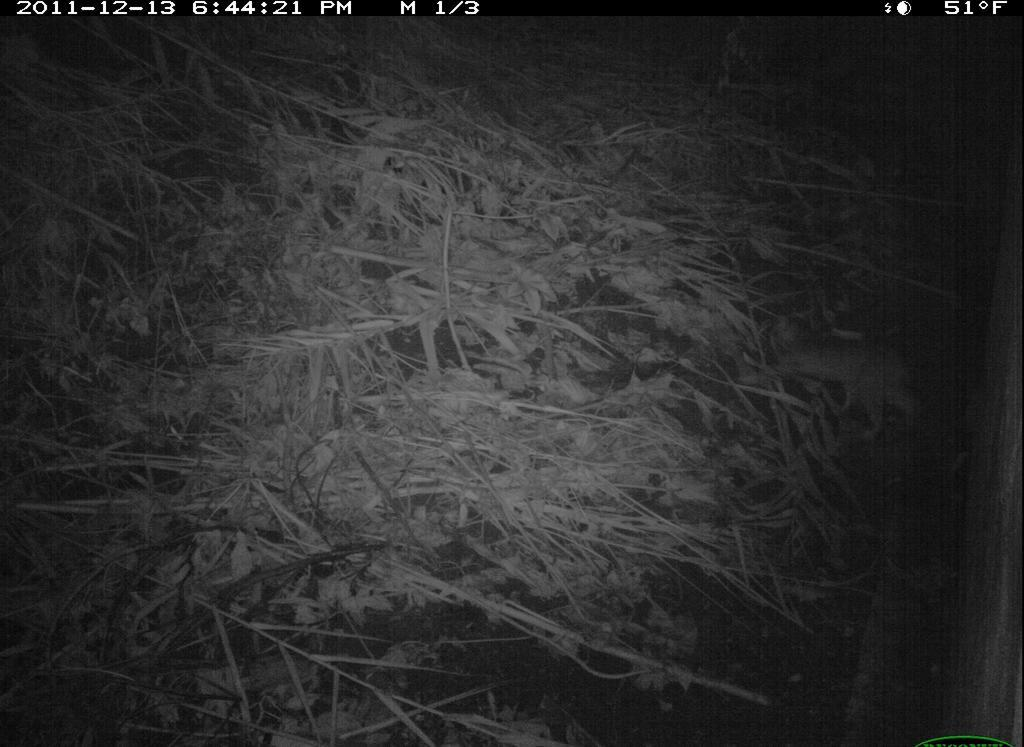bobcat: (762, 297, 935, 452)
